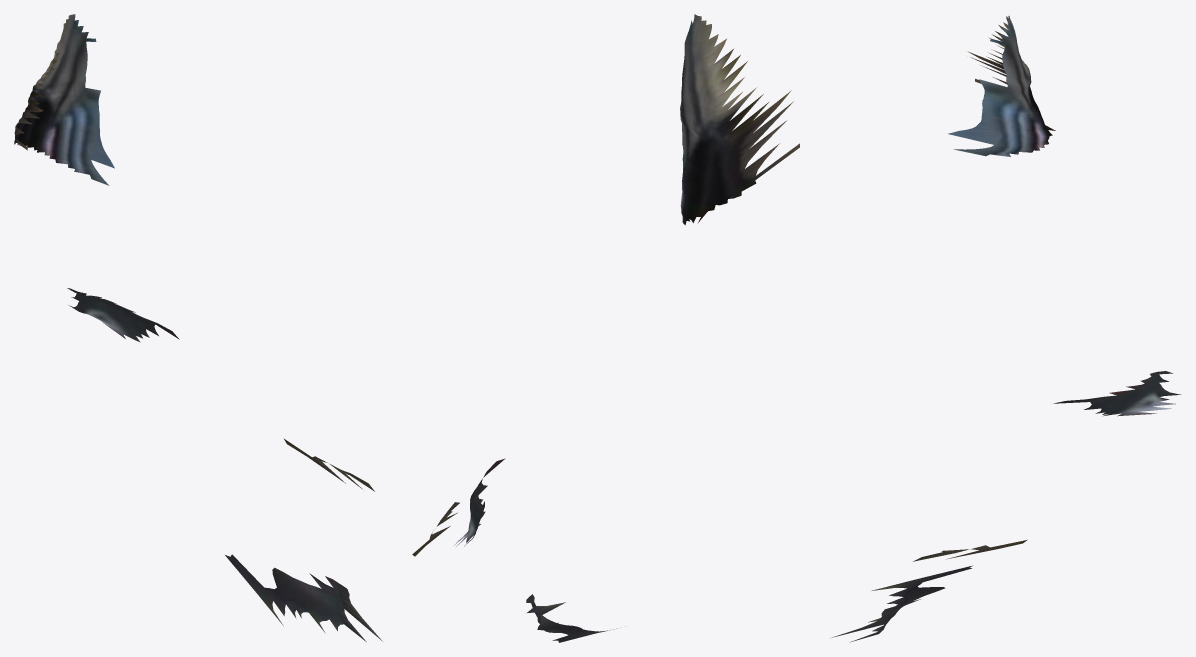
The model's file is observed-surface.glb.
The picture shows the model from 3 angles, left to right: view 1: azimuth 30°, elevation 25°; view 2: azimuth 150°, elevation 25°; view 3: azimuth 270°, elevation 25°; orthographic projection. The views are drawn at different scales.
Parts seen in each view (by area): view 1: geometry_0; view 2: geometry_0; view 3: geometry_0.
Part boxes in pixels (left/top/right/bottom): geometry_0: left=14, top=14, right=382, bottom=641; geometry_0: left=412, top=14, right=799, bottom=642; geometry_0: left=830, top=16, right=1181, bottom=642.
Size of the model in its own units: 0.3603 by 0.6743 by 0.4003.
Materials: 1 (1 with a texture image).
